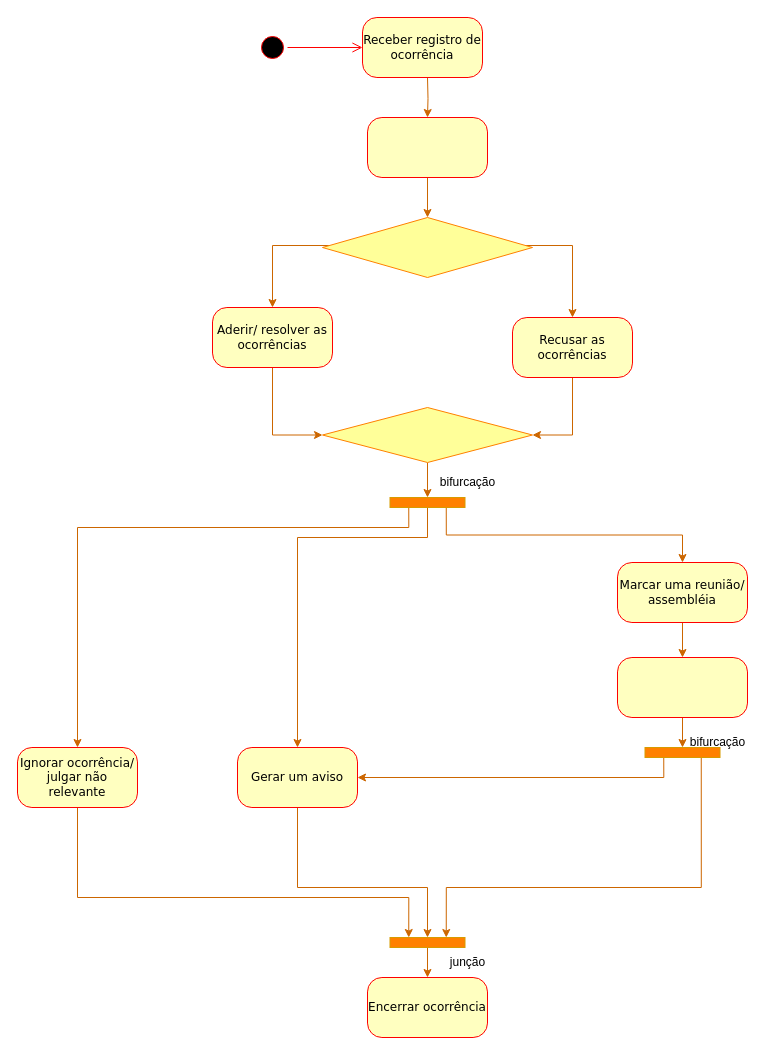
Image size: 775x1055. Some labels were removed from this diagram. Each missing label, with the box of its shape:
Analizar as ocorrências: (322, 216, 532, 278)
Discutir as pautas definidas para a reunião: (616, 656, 748, 718)
Fim da análise: (322, 406, 532, 462)
Repassar as ocorrências ao síndico: (366, 116, 488, 178)
